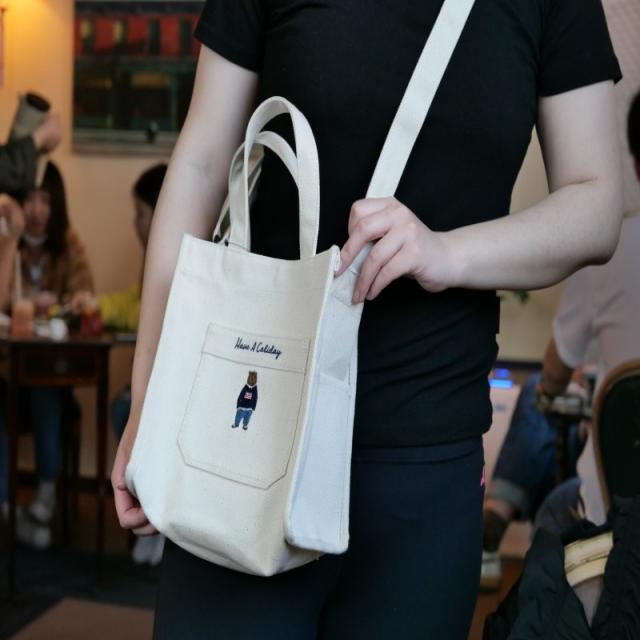ecobag: (124, 115, 384, 574)
